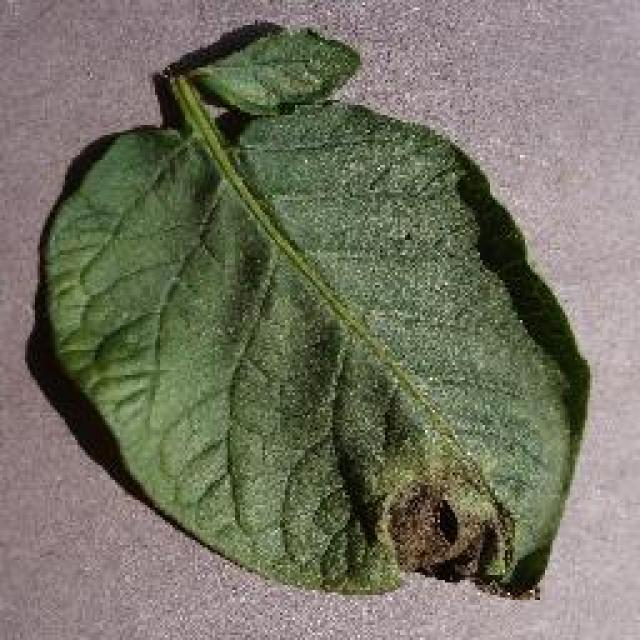Potato___Late_blight: (34, 26, 596, 603)
